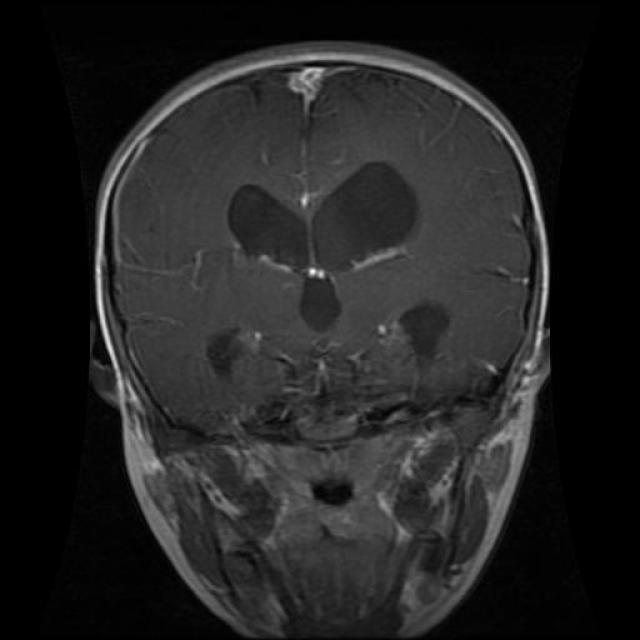glioma: (228, 160, 414, 334)
